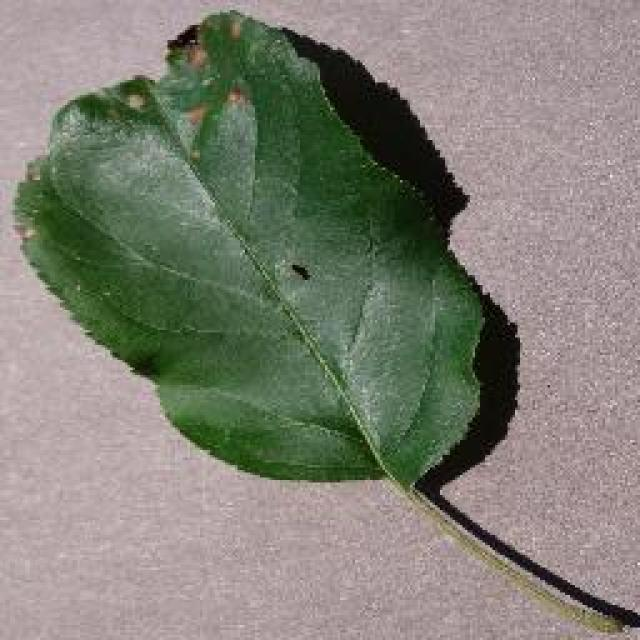Black_rot: (10, 7, 638, 635)
